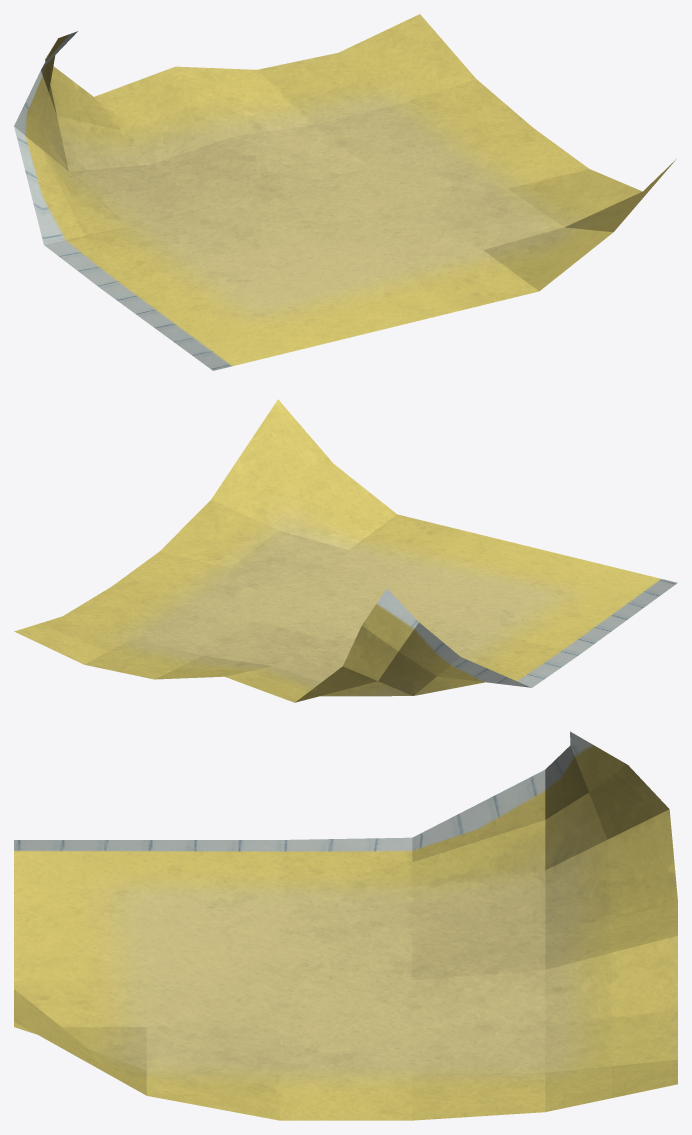
The picture shows the model from 3 angles, top to bottom: view 1: azimuth 30°, elevation 25°; view 2: azimuth 150°, elevation 25°; view 3: azimuth 270°, elevation 25°; orthographic projection. The views are drawn at different scales.
Parts seen in each view (by area): view 1: SM_post_it_notes.003; view 2: SM_post_it_notes.003; view 3: SM_post_it_notes.003.
Part boxes in pixels (x1=…): SM_post_it_notes.003: x1=14, y1=14, x2=676, y2=370; SM_post_it_notes.003: x1=14, y1=399, x2=677, y2=702; SM_post_it_notes.003: x1=14, y1=731, x2=677, y2=1120.
Bounding box in the file's own units: 7.6 × 2.11 × 7.6.
